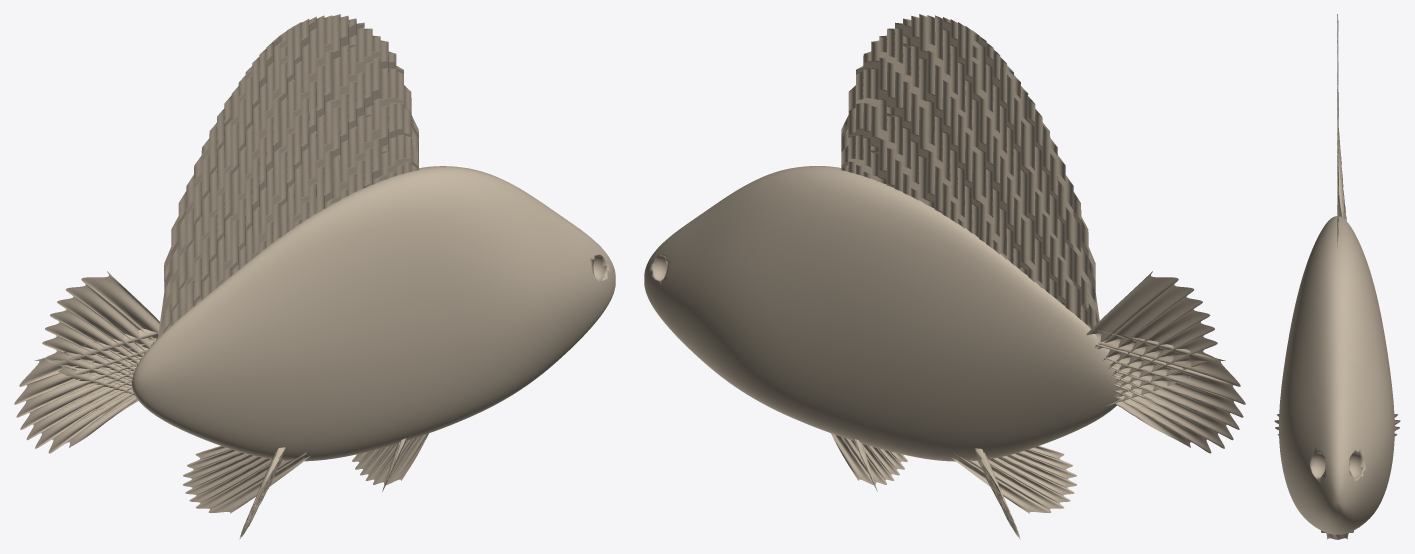
The model's file is 3dcodebench_Fish_seed0_L2_Q1__gemini4argon.glb.
3 renders of one model, left to right at view 1: azimuth 30°, elevation 25°; view 2: azimuth 150°, elevation 25°; view 3: azimuth 270°, elevation 25°, orthographic.
Visible parts, largest first — view 1: object; view 2: object; view 3: object.
Boxes of the visible parts, x1,y1,x2,y2 form: object: [14, 14, 615, 539]; object: [644, 14, 1245, 539]; object: [1274, 14, 1400, 539].
Size of the model in its own units: 1.55 by 1.2 by 0.2828.
